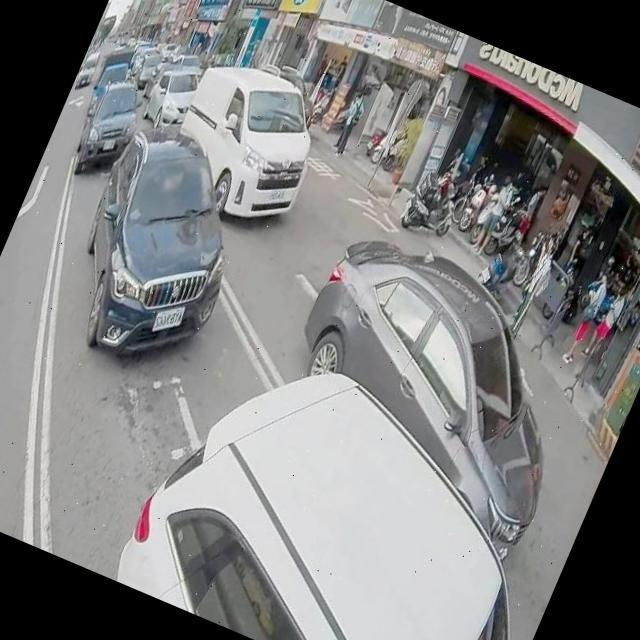person: (556, 268, 614, 370), (509, 236, 566, 338), (580, 276, 636, 372), (469, 172, 522, 260), (332, 86, 372, 156), (512, 184, 548, 243)
